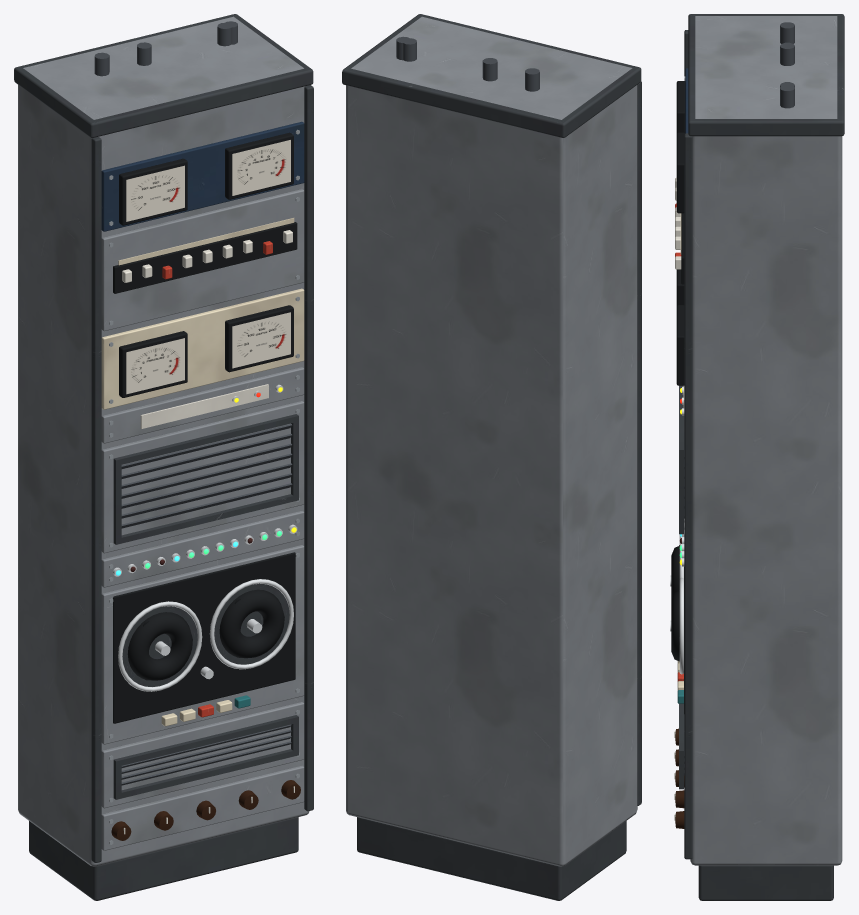
Rendered from Rack_60_2.glb.
The picture shows the model from 3 angles, left to right: view 1: azimuth 30°, elevation 25°; view 2: azimuth 150°, elevation 25°; view 3: azimuth 270°, elevation 25°; orthographic projection.
Visible parts, largest first — view 1: Rack_60_2_Body; view 2: Rack_60_2_Body; view 3: Rack_60_2_Body.
Part boxes in pixels (x1,y1,x2,y2): Rack_60_2_Body: (14, 14, 313, 900); Rack_60_2_Body: (342, 14, 641, 900); Rack_60_2_Body: (670, 14, 844, 900).
Bounding box in the file's own units: 0.61 × 2.1 × 0.412.
20 materials, 9 textured.
